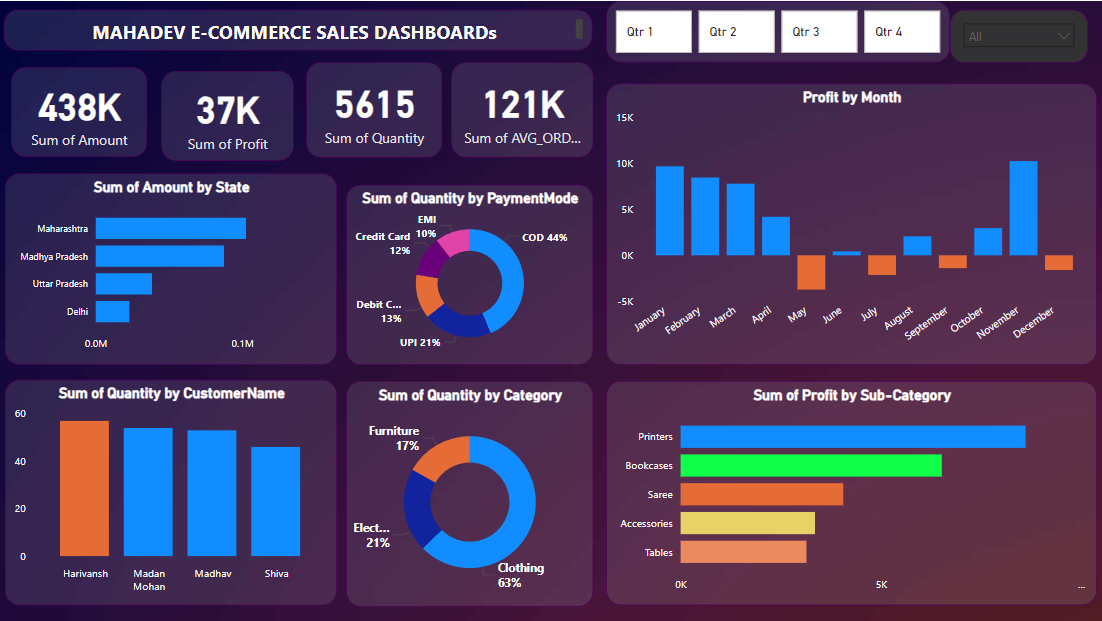

What the dashboard file says about the page in this screenshot:
{"tool":"powerbi","page":{"name":"Page 1","canvas":[1280,720],"ordinal":0},"visuals":[{"type":"textbox","box":[5,10,682.5,47.5],"z":0},{"type":"columnChart","title":"Profit by Month","fields":{"Category":["Orders.Order Date.Variation.Date Hierarchy.Month"],"Y":["Details.Profit"]},"box":[702.5,95,568.8,326.2],"z":1000},{"type":"barChart","fields":{"Category":["Details.Sub-Category"],"Y":["Details.Profit"]},"box":[702.5,440,568.8,260],"z":2000},{"type":"donutChart","fields":{"Category":["Details.Category"],"Y":["Details.Quantity"]},"box":[401.2,440,286.2,261.2],"z":3000},{"type":"donutChart","fields":{"Category":["Details.PaymentMode"],"Y":["Details.Quantity"]},"box":[401.2,212.5,286.2,208.8],"z":4000},{"type":"card","fields":{"Values":["Details.Amount"]},"box":[13.8,77.5,157.5,103.8],"z":5000},{"type":"card","fields":{"Values":["Details.Profit"]},"box":[186.2,81.2,153.8,103.8],"z":6000},{"type":"card","fields":{"Values":["Details.Quantity"]},"box":[355,71.2,157.5,110],"z":7000},{"type":"card","fields":{"Values":["Details.AVG_ORDER_VALUE"]},"box":[522.5,71.2,165,110],"z":8000},{"type":"barChart","fields":{"Category":["Orders.State"],"Y":["Details.Amount"]},"box":[6.2,200,385,221.2],"z":9000},{"type":"columnChart","fields":{"Category":["Orders.CustomerName"],"Y":["Details.Quantity"]},"box":[6.2,438.8,385,261.2],"z":10000},{"type":"advancedSlicerVisual","fields":{"Values":["Orders.Order Date.Variation.Date Hierarchy.Quarter"]},"box":[702.5,0,398.8,71.2],"z":11000},{"type":"slicer","fields":{"Values":["Orders.State"]},"box":[1101.2,10,160,61.2],"z":12000}]}

Visuals, with their boxes in screenshot pixels (x1, y1, x2, y2), scaled from the page's 1280x720 canvas onto the 1102x621 screenshot:
textbox: bbox=(4, 9, 592, 50)
"Profit by Month" columnChart: bbox=(605, 82, 1095, 363)
barChart - Details.Sub-Category x Details.Profit: bbox=(605, 380, 1095, 604)
donutChart - Details.Category x Details.Quantity: bbox=(345, 380, 592, 605)
donutChart - Details.PaymentMode x Details.Quantity: bbox=(345, 183, 592, 363)
card - Details.Amount: bbox=(12, 67, 147, 156)
card - Details.Profit: bbox=(160, 70, 293, 160)
card - Details.Quantity: bbox=(306, 61, 441, 156)
card - Details.AVG_ORDER_VALUE: bbox=(450, 61, 592, 156)
barChart - Orders.State x Details.Amount: bbox=(5, 172, 337, 363)
columnChart - Orders.CustomerName x Details.Quantity: bbox=(5, 378, 337, 604)
advancedSlicerVisual - Orders.Order Date.Variation.Date Hierarchy.Quarter: bbox=(605, 0, 948, 61)
slicer - Orders.State: bbox=(948, 9, 1086, 61)
